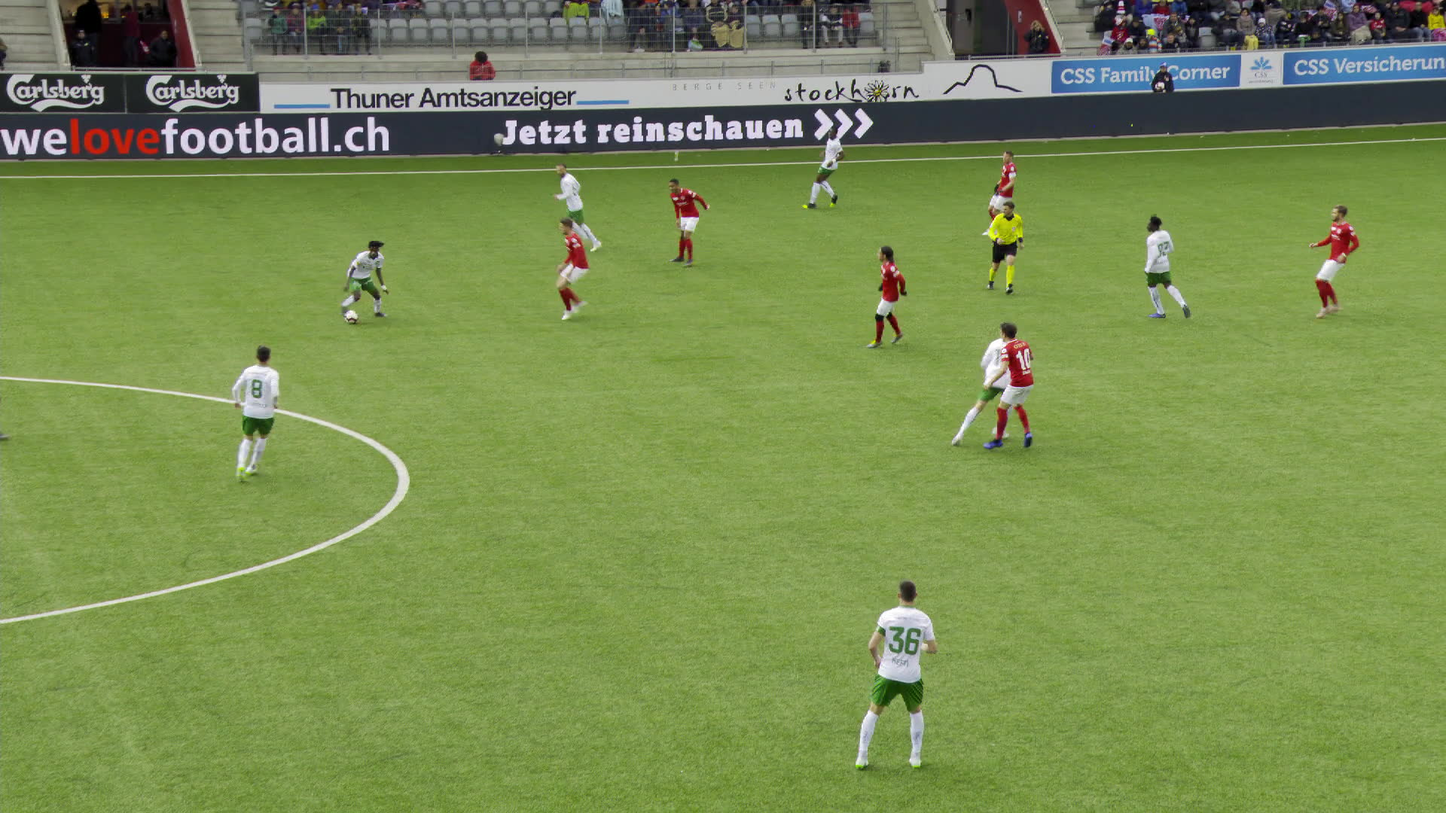ball: (343, 310, 358, 322)
player: (850, 582, 935, 769), (223, 348, 281, 479), (953, 327, 1012, 449), (982, 326, 1035, 454), (1302, 207, 1362, 320), (550, 221, 603, 323), (1142, 212, 1188, 320), (863, 248, 908, 349), (331, 239, 383, 321), (557, 166, 609, 244), (666, 178, 708, 264), (978, 153, 1017, 236), (813, 128, 842, 210)
referee: (985, 201, 1025, 294)
